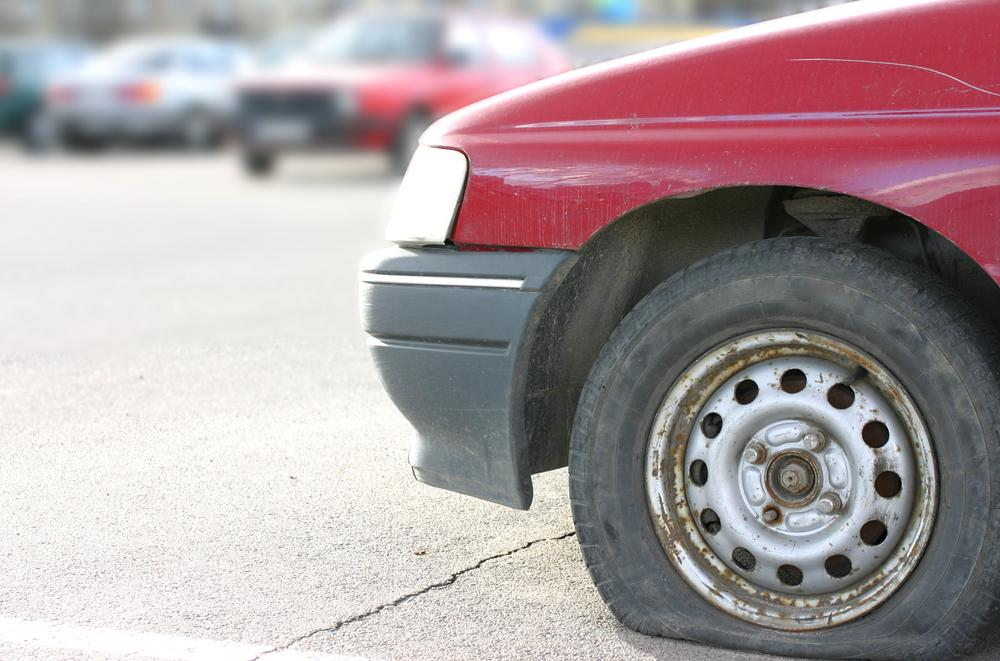scratch: (468, 157, 714, 192)
tire flat: (571, 237, 1000, 661)
